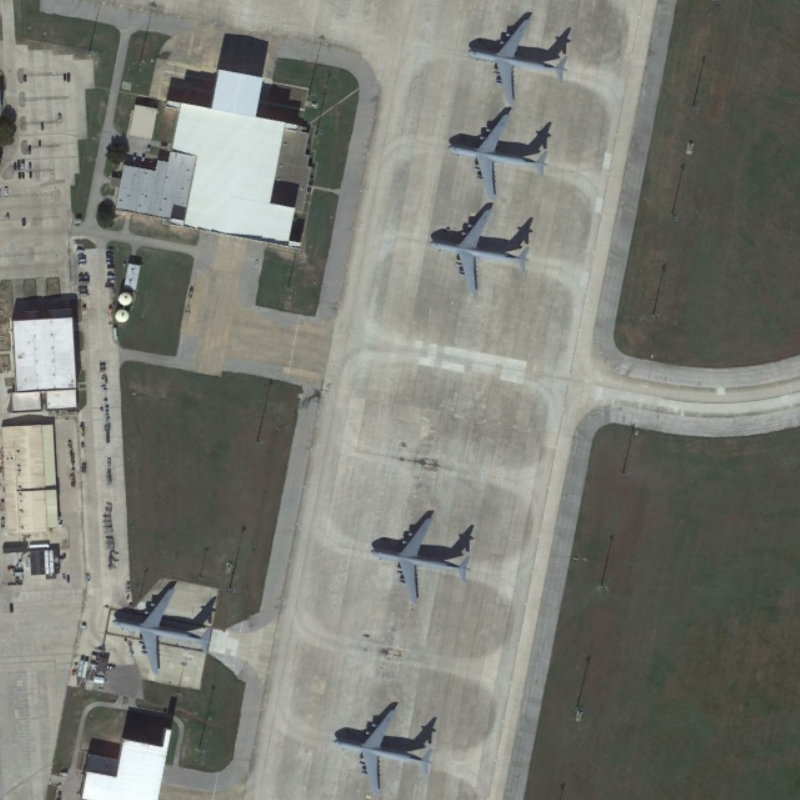A4: (363, 499, 477, 611), (419, 200, 534, 305), (460, 6, 576, 109), (440, 105, 555, 207), (101, 575, 216, 677), (319, 697, 436, 796)
